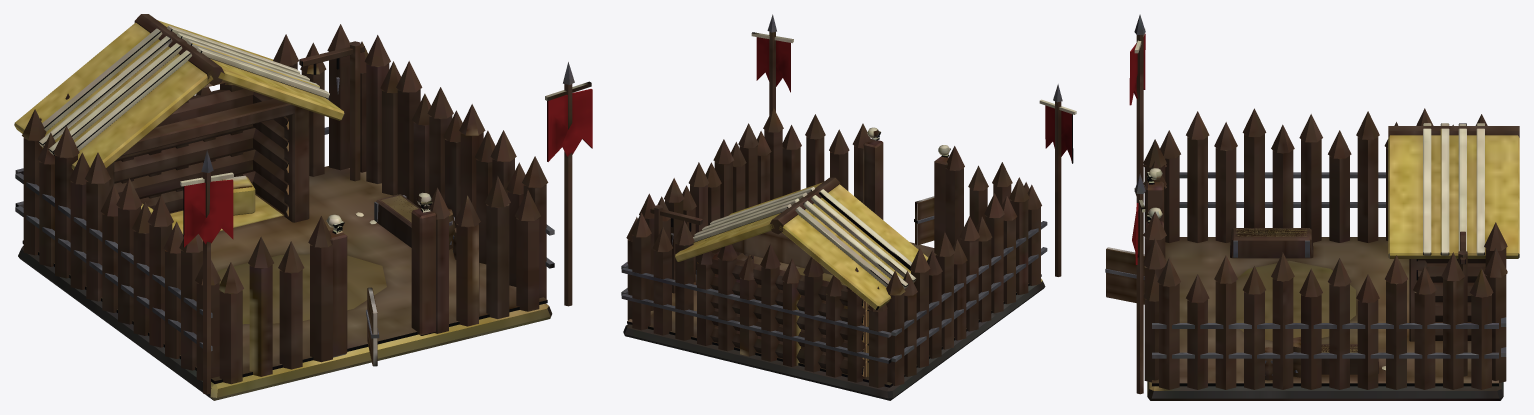
The model's file is pig_farm.glb.
The picture shows the model from 3 angles, left to right: view 1: azimuth 30°, elevation 25°; view 2: azimuth 150°, elevation 25°; view 3: azimuth 270°, elevation 25°; orthographic projection. The views are drawn at different scales.
Parts seen in each view (by area): view 1: Static_Mesh, Anim_Banners; view 2: Static_Mesh, Anim_Banners; view 3: Static_Mesh, Anim_Banners.
Boxes of the visible parts, x1,y1,x2,y2 form: Static_Mesh: (14,14,591,400); Anim_Banners: (183,89,592,247); Static_Mesh: (621,14,1076,400); Anim_Banners: (756,37,1073,163); Static_Mesh: (1105,14,1519,400); Anim_Banners: (1129,33,1145,264).
Size of the model in its own units: 7.15 by 4.31 by 6.93.
2 materials, 2 textured.
